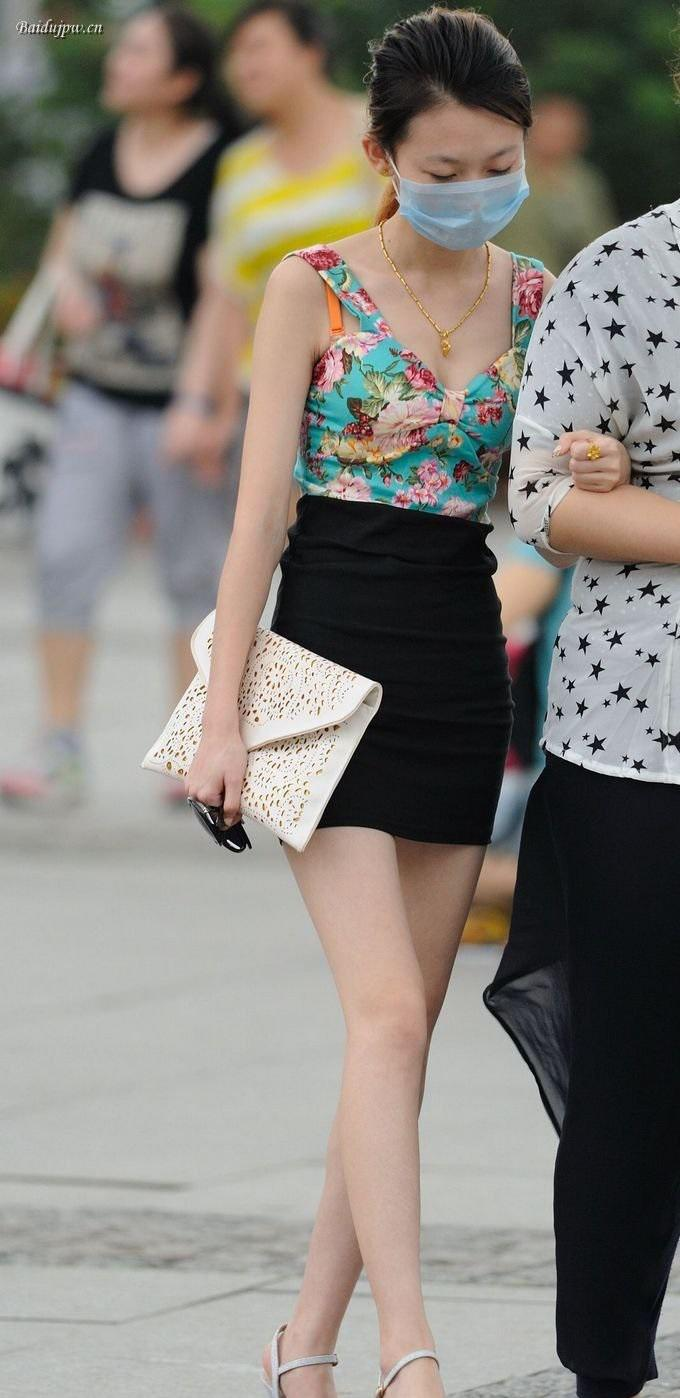OK: (408, 134, 524, 250)
